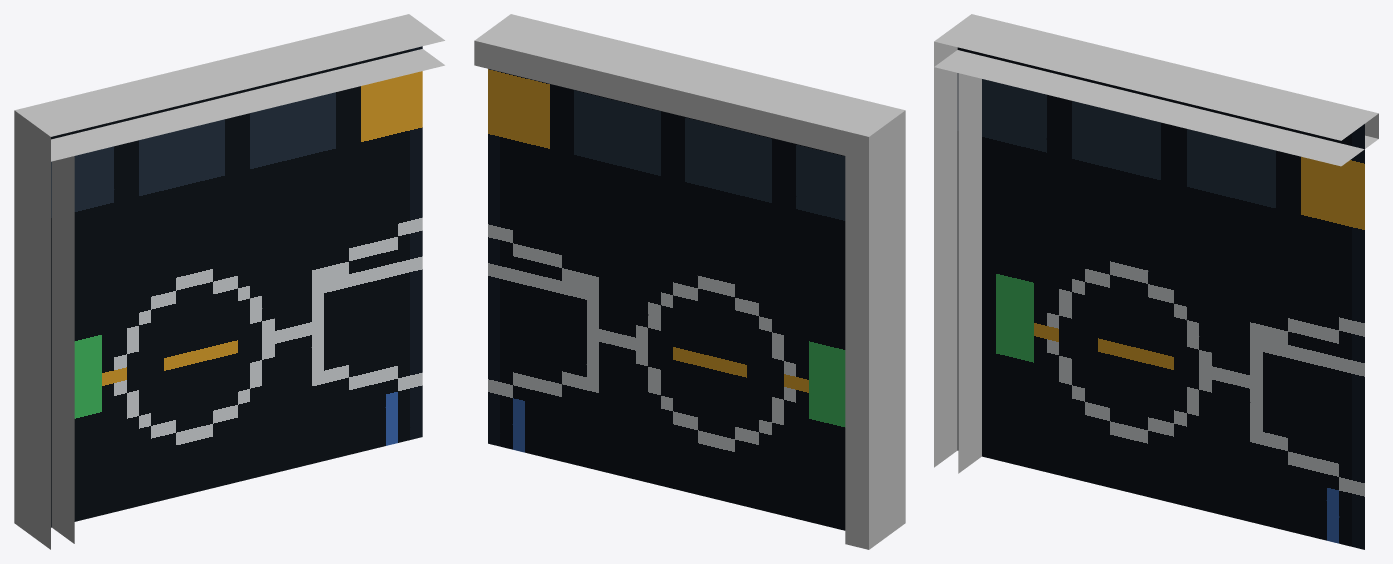
The model's file is wall_display_2x2_01.obj.
The picture shows the model from 3 angles, left to right: view 1: azimuth 30°, elevation 25°; view 2: azimuth 150°, elevation 25°; view 3: azimuth 330°, elevation 25°; orthographic projection. The views are drawn at different scales.
Parts seen in each view (by area): view 1: wall_display_2x2_01; view 2: wall_display_2x2_01; view 3: wall_display_2x2_01.
Boxes of the visible parts, x1,y1,x2,y2 form: wall_display_2x2_01: [14, 14, 444, 549]; wall_display_2x2_01: [474, 14, 905, 549]; wall_display_2x2_01: [934, 14, 1378, 549].
Bounding box in the file's own units: 1 × 1 × 0.16.
